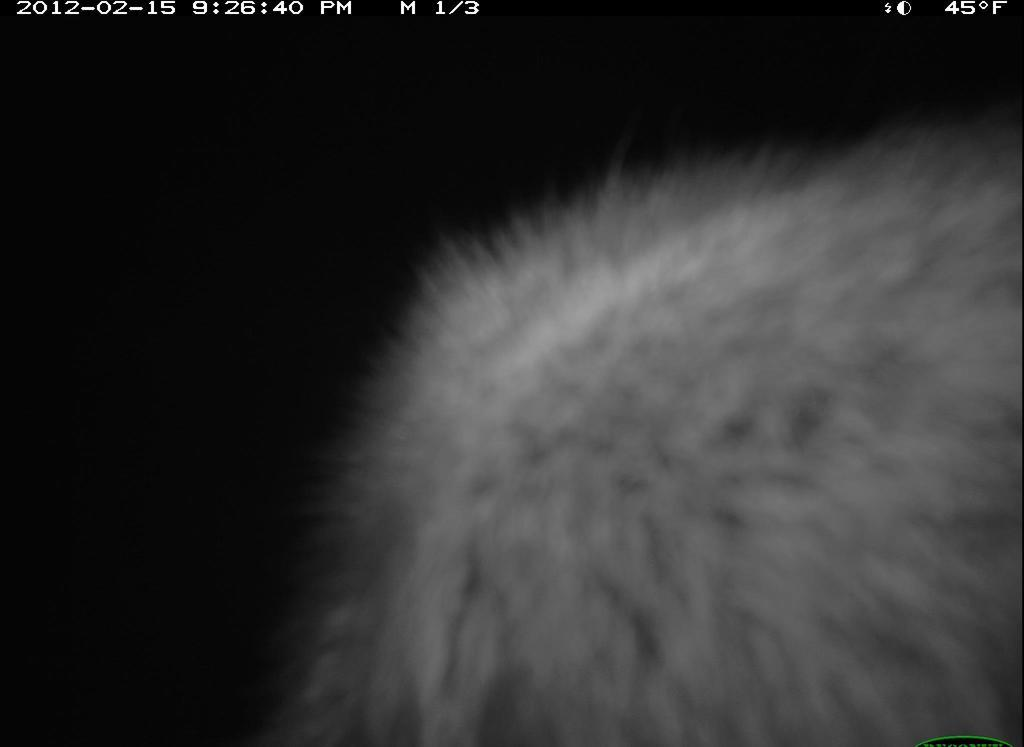raccoon: (255, 123, 1018, 745)
